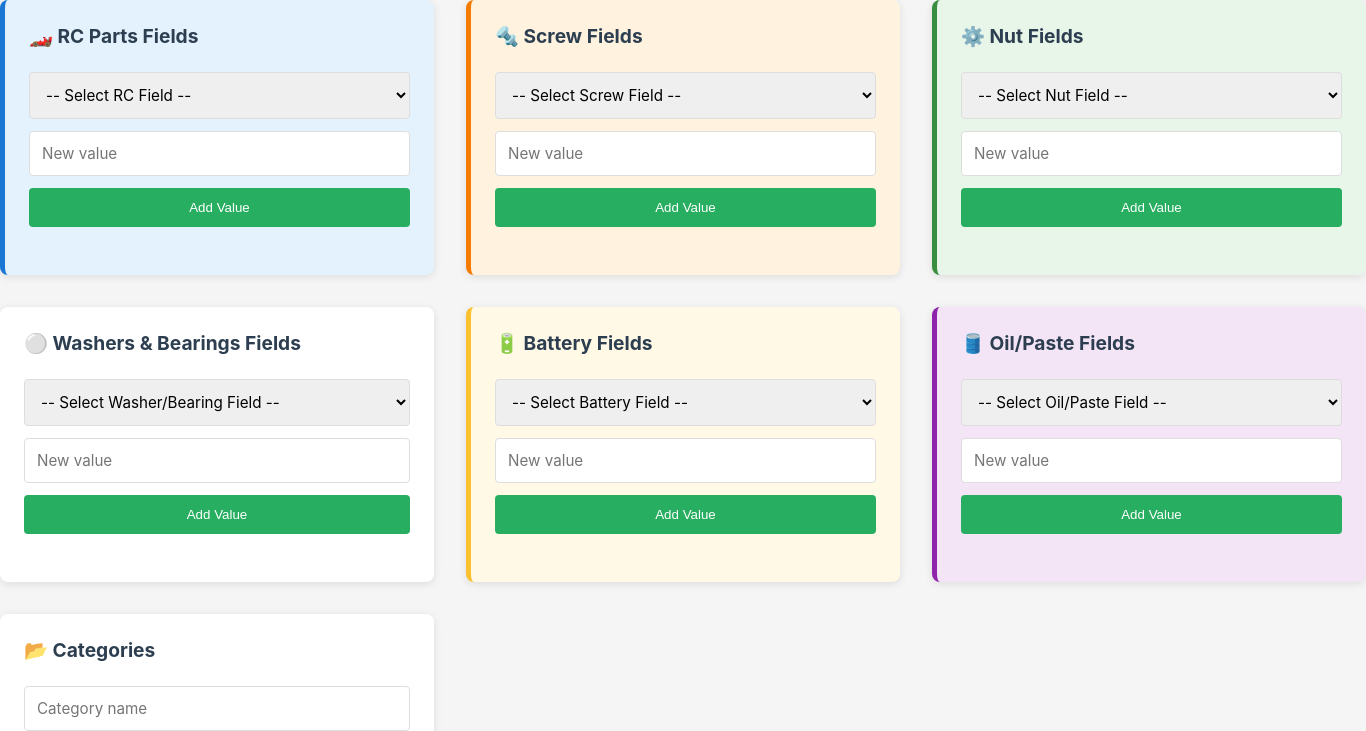
Test: ManageView field cards › keeps every card independent
Select "Color" in the dropdown named "Screw field" at [686, 96], box x1=495 y1=72 x2=876 y2=119
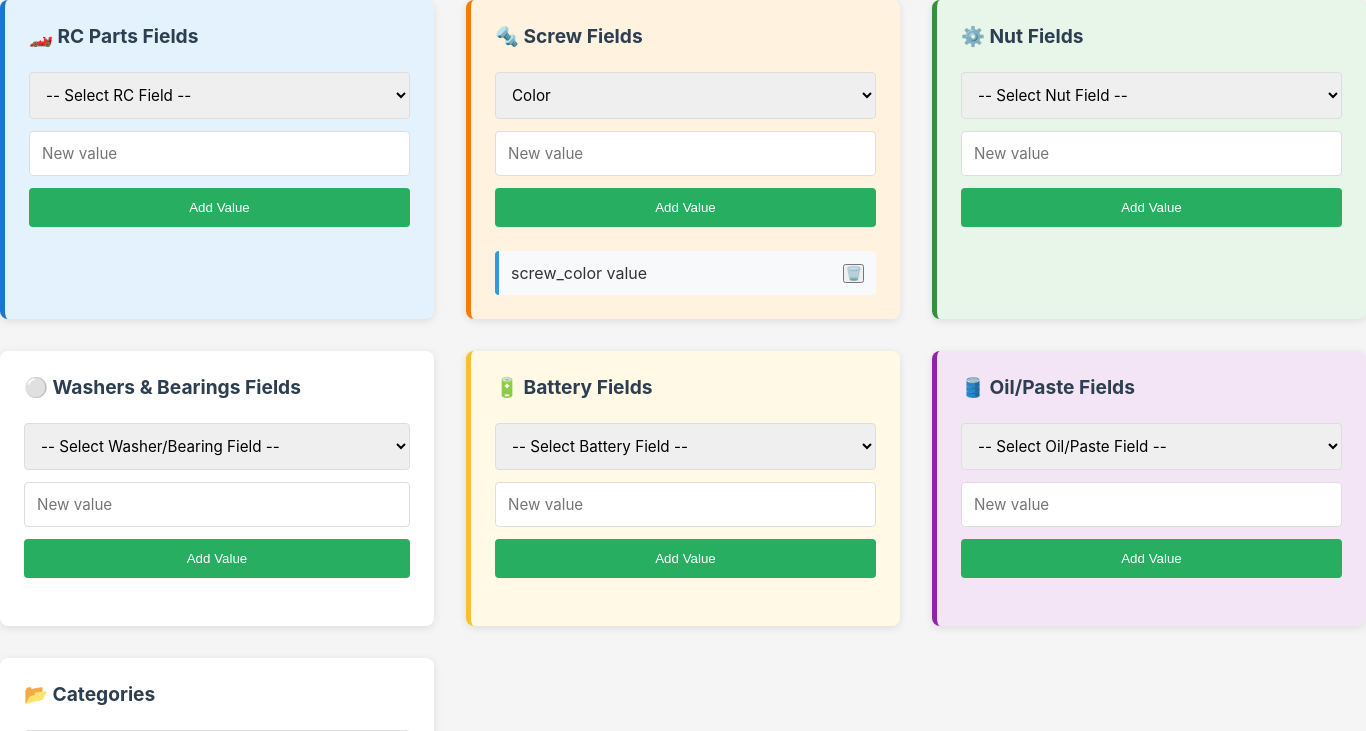
Now the element with class "manage-section" shows "screw_color value", box x1=511 y1=263 x2=647 y2=283
